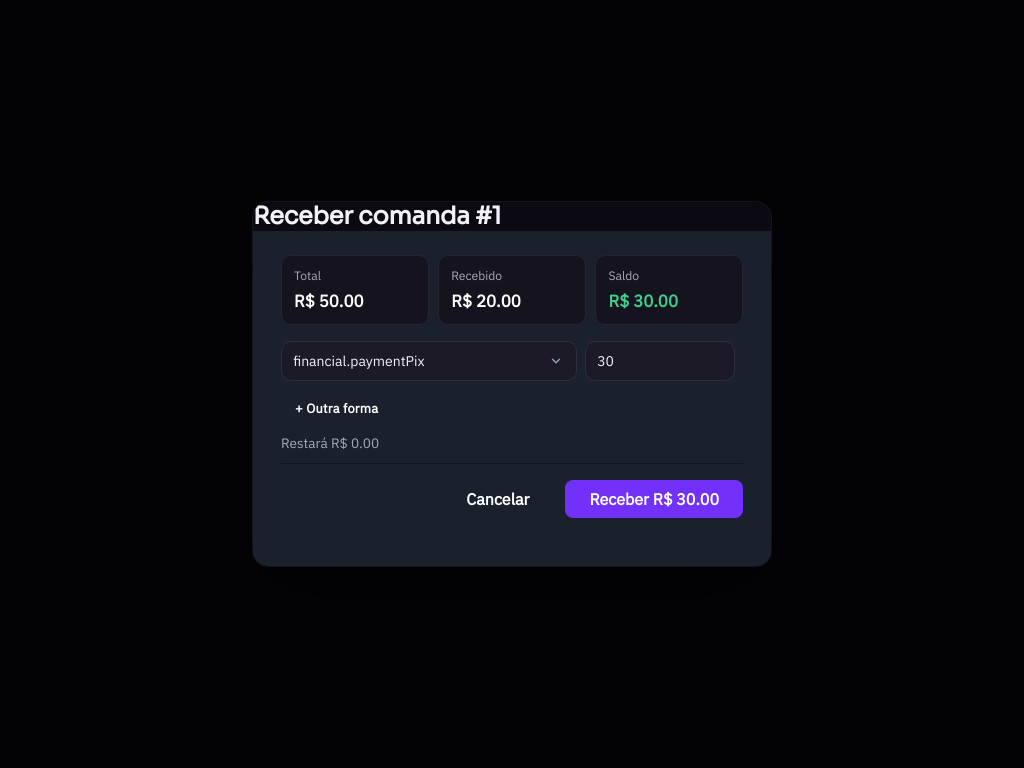
Test: não deixa passar do saldo
Replace the text in the number field named "Valor" with "31" at [660, 361], box [585,341,735,381]
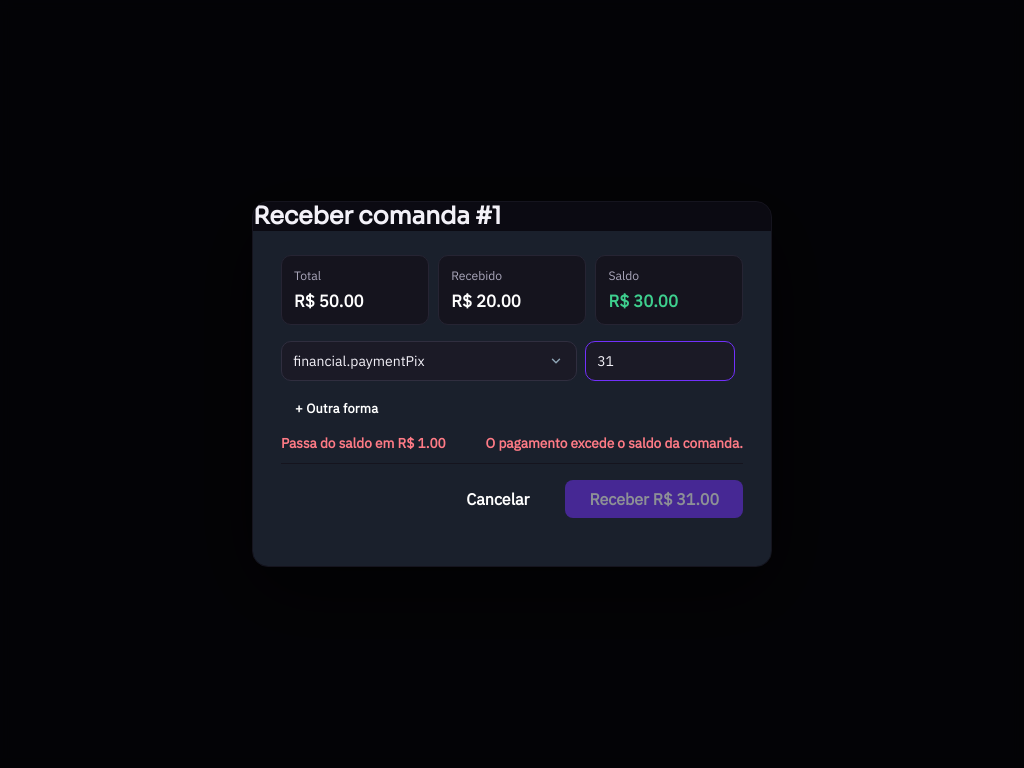
Result: the button "Receber R$ 31.00" is disabled at [565,480,743,518]
Result: the message shows "excede o saldo" at [486,434,743,452]
